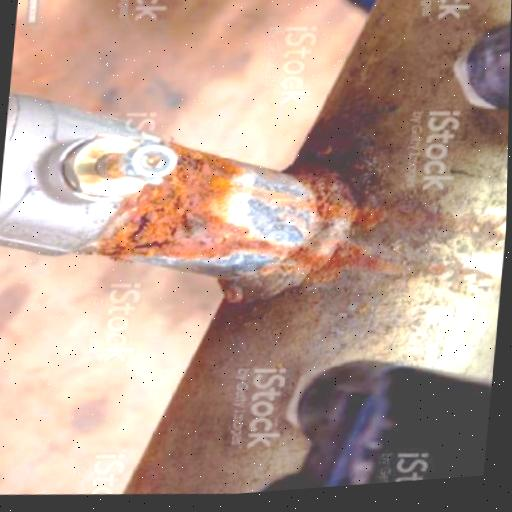corrosion: (100, 127, 270, 300), (264, 163, 406, 335)
